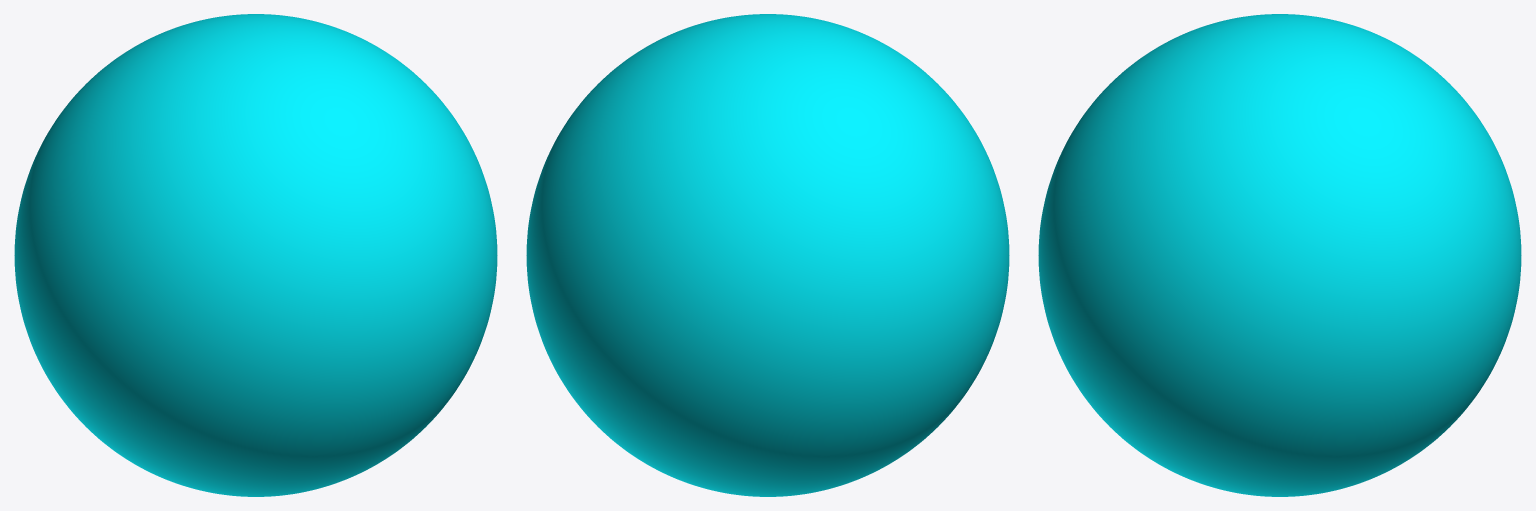
The picture shows the model from 3 angles, left to right: view 1: azimuth 30°, elevation 25°; view 2: azimuth 150°, elevation 25°; view 3: azimuth 270°, elevation 25°; orthographic projection.
Size of the model in its own units: 4.24 by 4.24 by 4.24.
